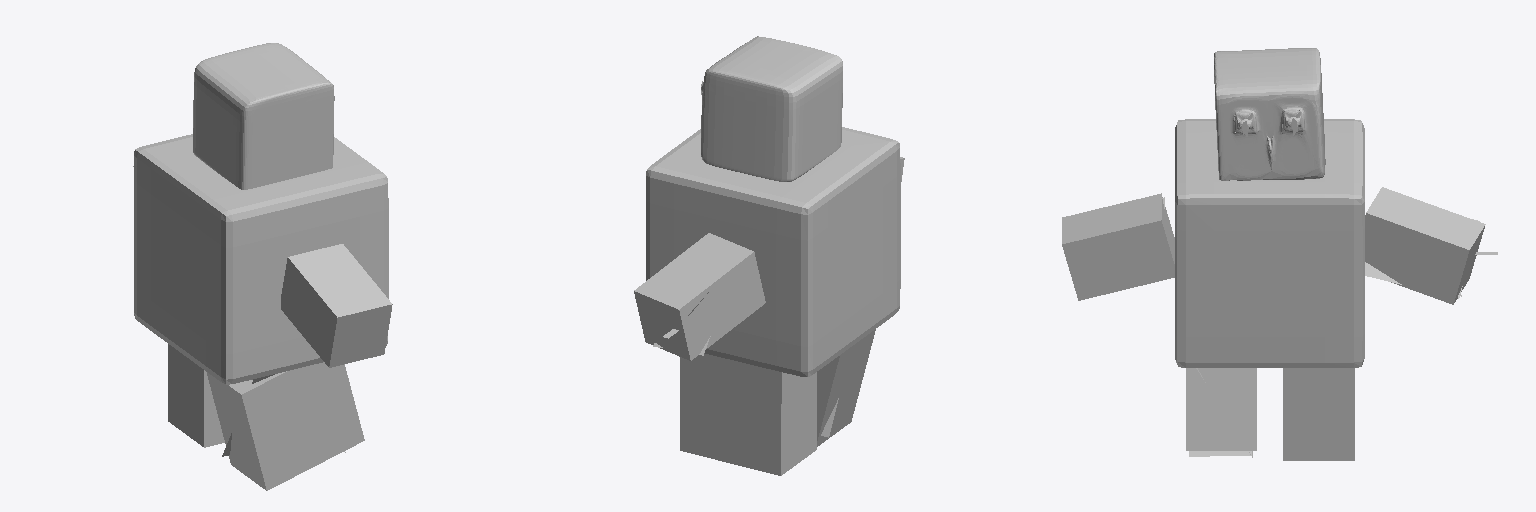
The picture shows the model from 3 angles: view 1: azimuth 30°, elevation 25°; view 2: azimuth 150°, elevation 25°; view 3: azimuth 270°, elevation 25°; orthographic projection.
Visible parts, largest first — view 1: Cube_Cube.001, Cube.001_Cube.002, CollisionLL_Cube.003, Cube.005_Cube.007, Cube.003_Cube.004; view 2: Cube_Cube.001, Cube.001_Cube.002, Cube.003_Cube.004, Cube.004_Cube.005, CollisionLL_Cube.003; view 3: Cube_Cube.001, Cube.001_Cube.002, Cube.004_Cube.005, Cube.005_Cube.007, Cube.003_Cube.004, CollisionLL_Cube.003.
Part boxes in pixels (x1,y1,x2,y2): Cube_Cube.001: (134,134,388,384); Cube.001_Cube.002: (193,43,334,189); CollisionLL_Cube.003: (207,362,364,490); Cube.005_Cube.007: (281,244,392,367); Cube.003_Cube.004: (168,344,224,447); Cube_Cube.001: (646,127,900,376); Cube.001_Cube.002: (701,36,842,181); Cube.003_Cube.004: (680,353,816,475); Cube.004_Cube.005: (634,233,765,360); CollisionLL_Cube.003: (817,329,875,446); Cube_Cube.001: (1175,119,1364,367); Cube.001_Cube.002: (1214,48,1325,180); Cube.004_Cube.005: (1365,187,1485,304); Cube.005_Cube.007: (1062,193,1174,300); Cube.003_Cube.004: (1283,368,1354,460); CollisionLL_Cube.003: (1186,368,1256,450).
Bounding box in the file's own units: 1.46 × 3.24 × 3.34.